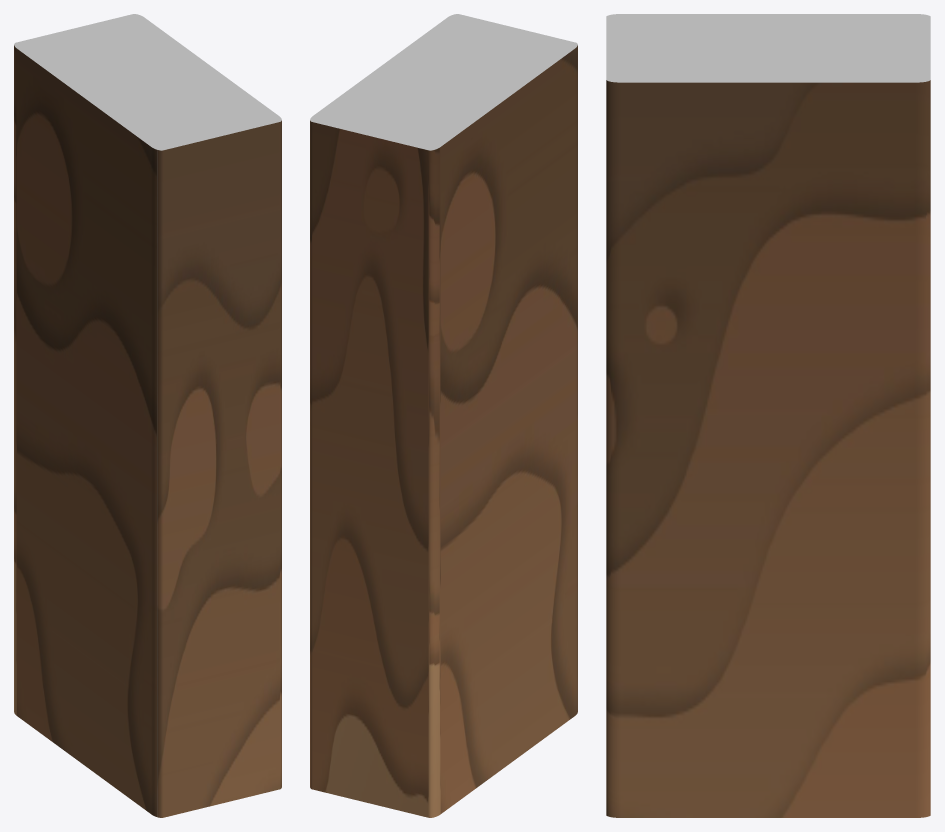
The model's file is Whole1NonBreak.fbx.
3 views of the same model, side by side, from view 1: azimuth 30°, elevation 25°; view 2: azimuth 150°, elevation 25°; view 3: azimuth 270°, elevation 25° (orthographic). The views are drawn at different scales.
Visible parts, largest first — view 1: Cube; view 2: Cube; view 3: Cube.
Part boxes in pixels (bbox=[...]): Cube: bbox=[14, 14, 281, 817]; Cube: bbox=[310, 14, 577, 817]; Cube: bbox=[606, 14, 930, 817].
Bounding box in the file's own units: 10 × 50 × 20.
